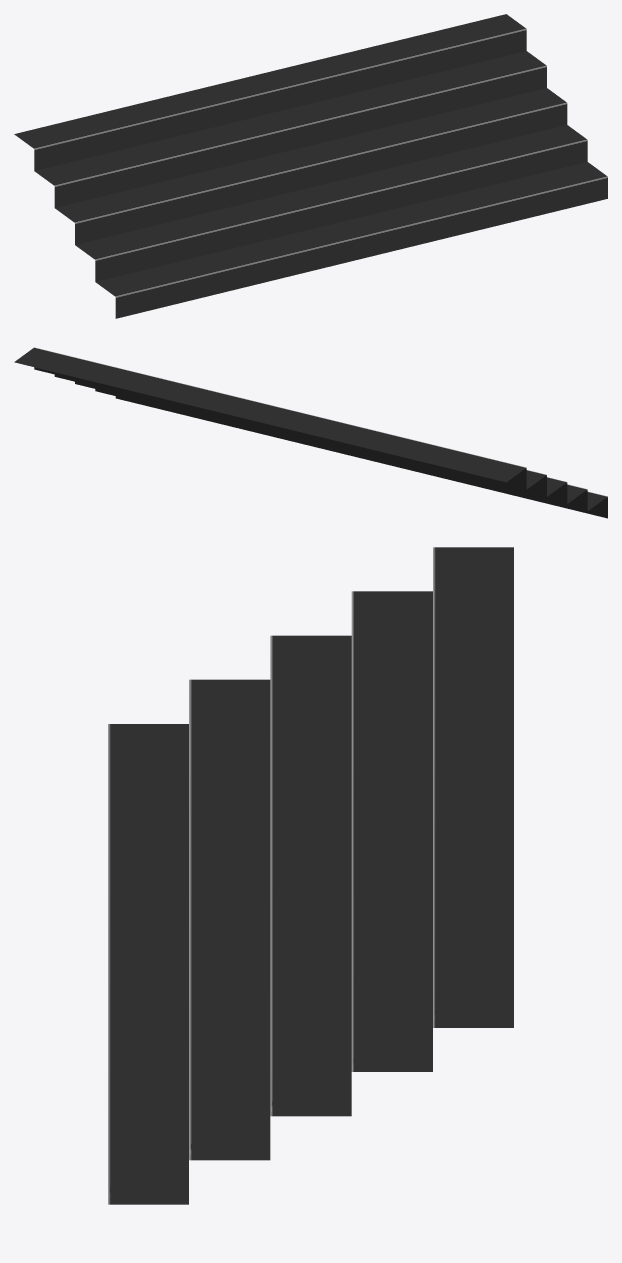
Rendered from Steps01_350x75cm.FBX.
3 views of the same model, one above another, from view 1: azimuth 30°, elevation 25°; view 2: azimuth 150°, elevation 25°; view 3: azimuth 270°, elevation 25° (orthographic). The views are drawn at different scales.
Parts seen in each view (by area): view 1: Steps01_350x75cm; view 2: Steps01_350x75cm; view 3: Steps01_350x75cm.
Part boxes in pixels (box(x1,y1,x2,y2)): Steps01_350x75cm: box(14, 14, 607, 318); Steps01_350x75cm: box(14, 347, 607, 518); Steps01_350x75cm: box(108, 547, 513, 1204).
Size of the model in its own units: 3500 by 750 by 1250.
